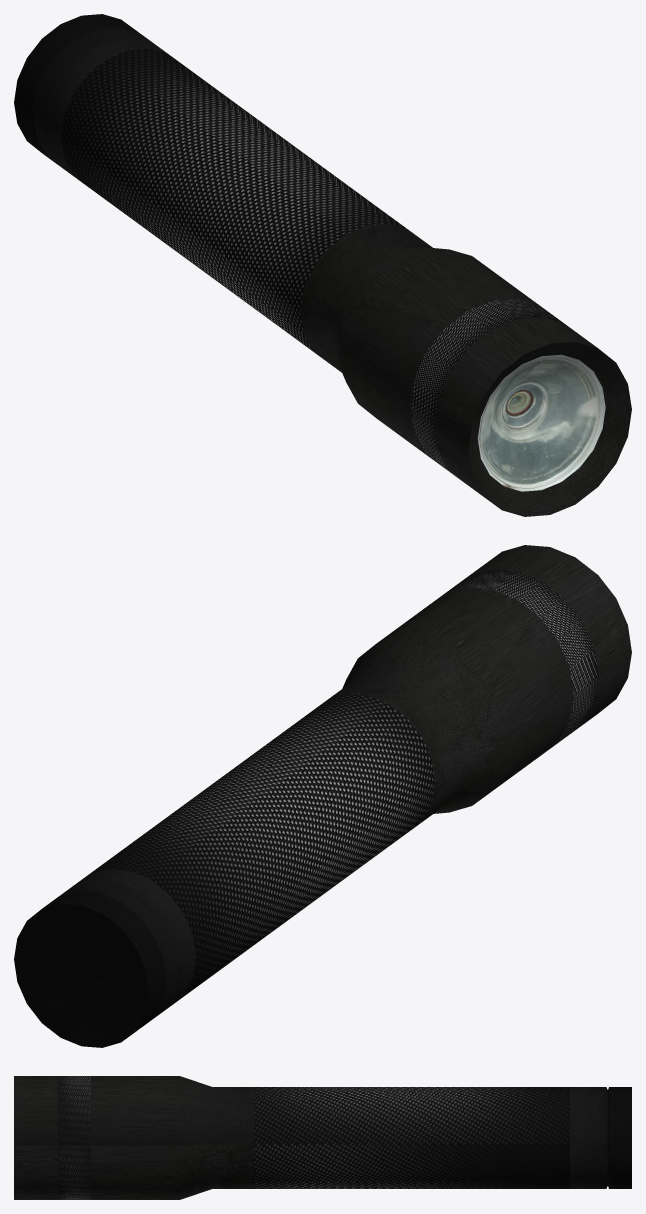
The model's file is Flashlight.fbx.
3 renders of one model, top to bottom at view 1: azimuth 30°, elevation 25°; view 2: azimuth 150°, elevation 25°; view 3: azimuth 270°, elevation 25°, orthographic. The views are drawn at different scales.
Visible parts, largest first — view 1: pCylinder1; view 2: pCylinder1; view 3: pCylinder1.
Boxes of the visible parts, x1,y1,x2,y2 form: pCylinder1: (14,14,631,516); pCylinder1: (14,545,631,1047); pCylinder1: (14,1076,631,1199).
Bounding box in the file's own units: 1.55 × 1.55 × 7.68.
Materials: 3 (3 with a texture image).
